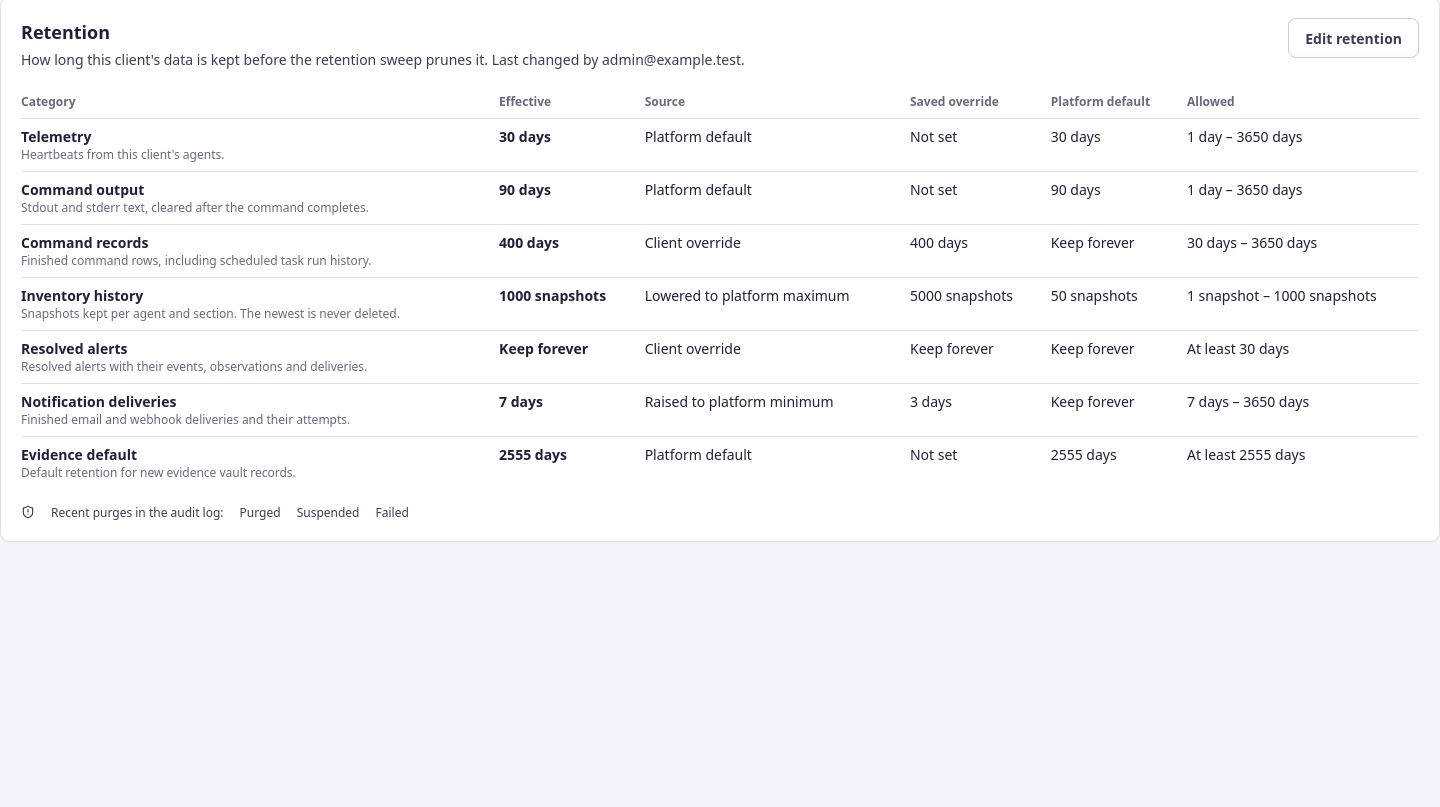
it: shortening asks for confirmation that pruned data is unrecoverable, then saves with the version
Click the button "Edit retention". click: (1354,38)
box: x1=1288 y1=18 x2=1419 y2=58
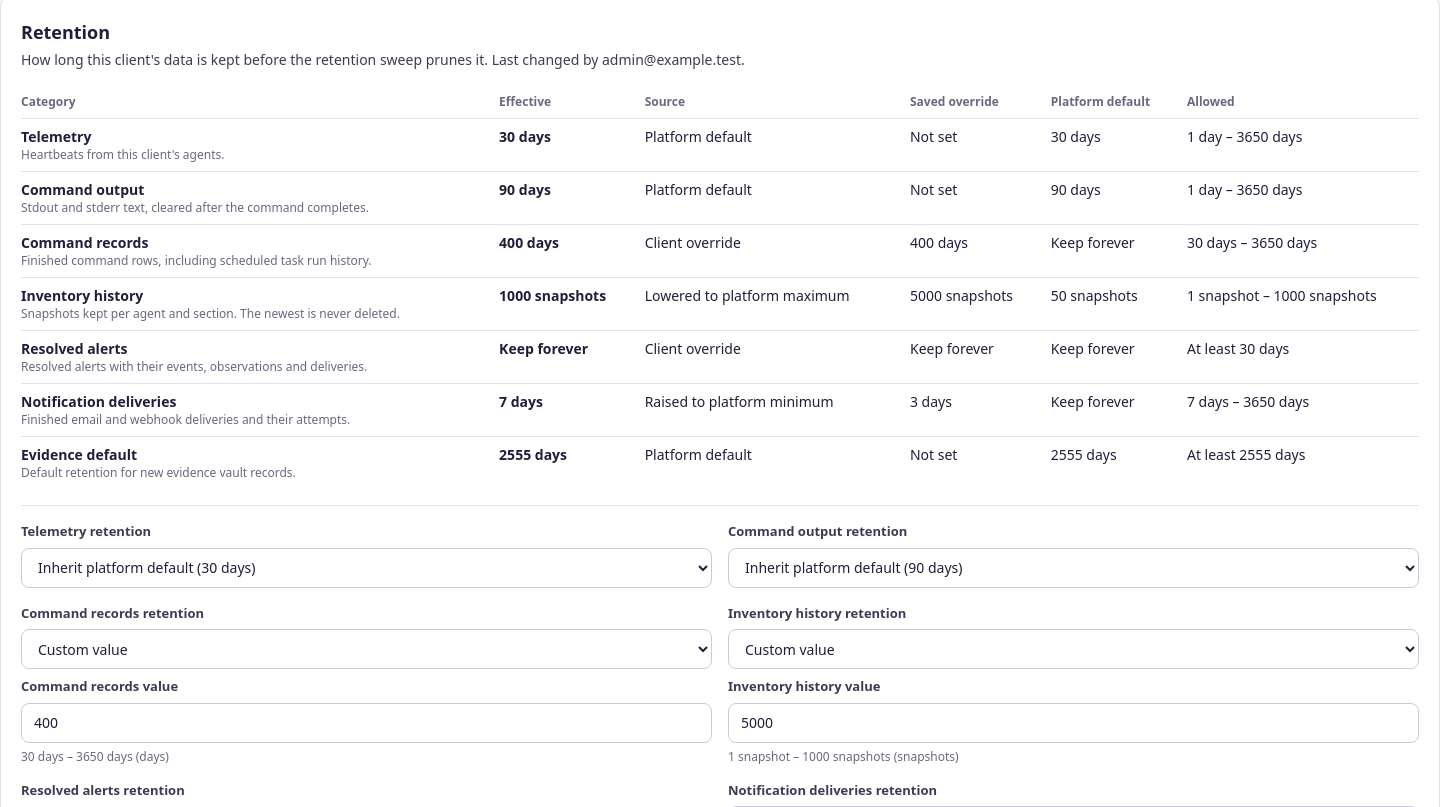
Select "Custom value" in the dropdown labelled "Inventory history retention". click: (1074,649)
box: x1=728 y1=629 x2=1419 y2=669
Replace the text in the field labelled "Inventory history value" with "1000". click: (1074,722)
box: x1=728 y1=702 x2=1419 y2=742
(page scrolled)
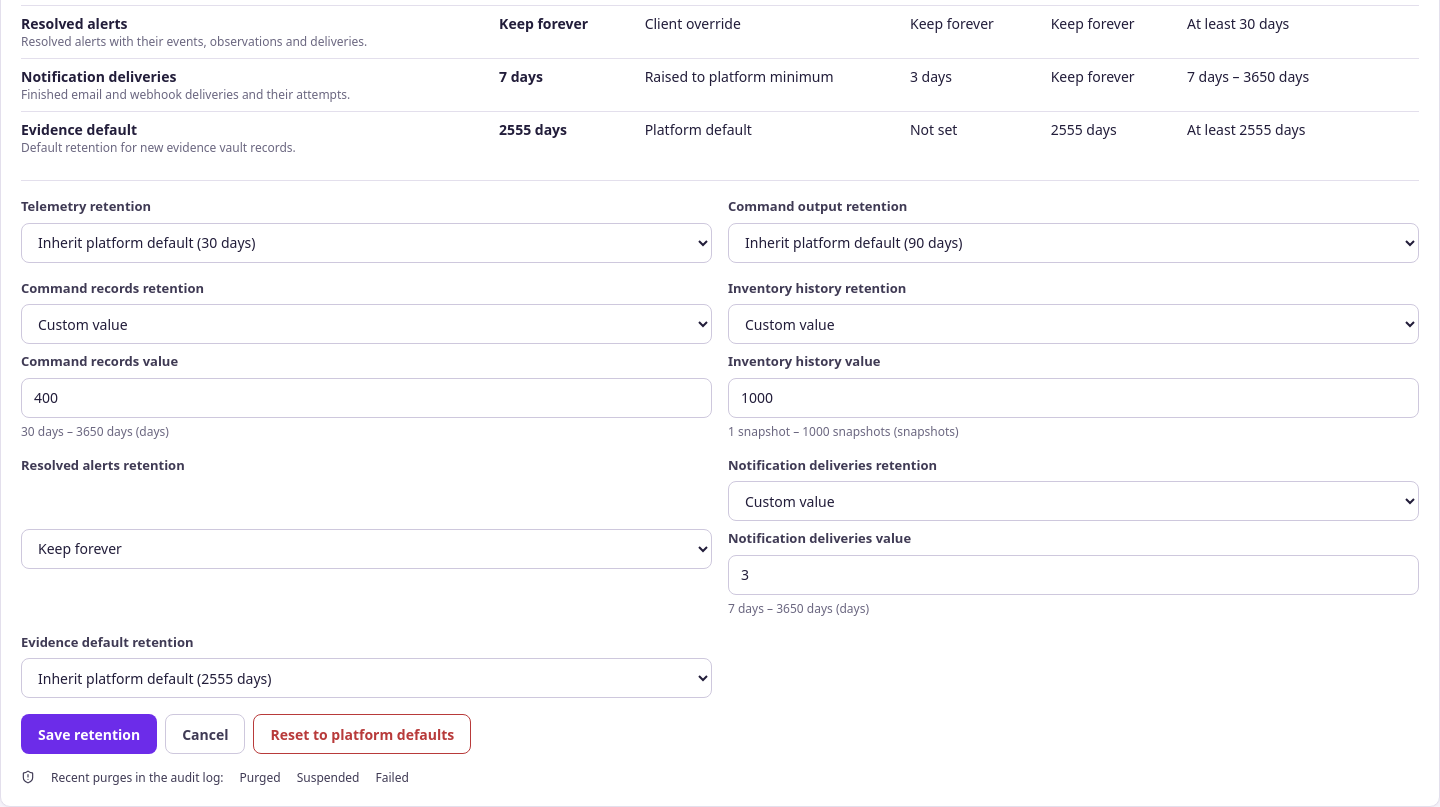
Select "Inherit platform default (Keep forever)" in the dropdown labelled "Notification deliveries retention". click: (1074,501)
box: x1=728 y1=481 x2=1419 y2=521
(page scrolled)
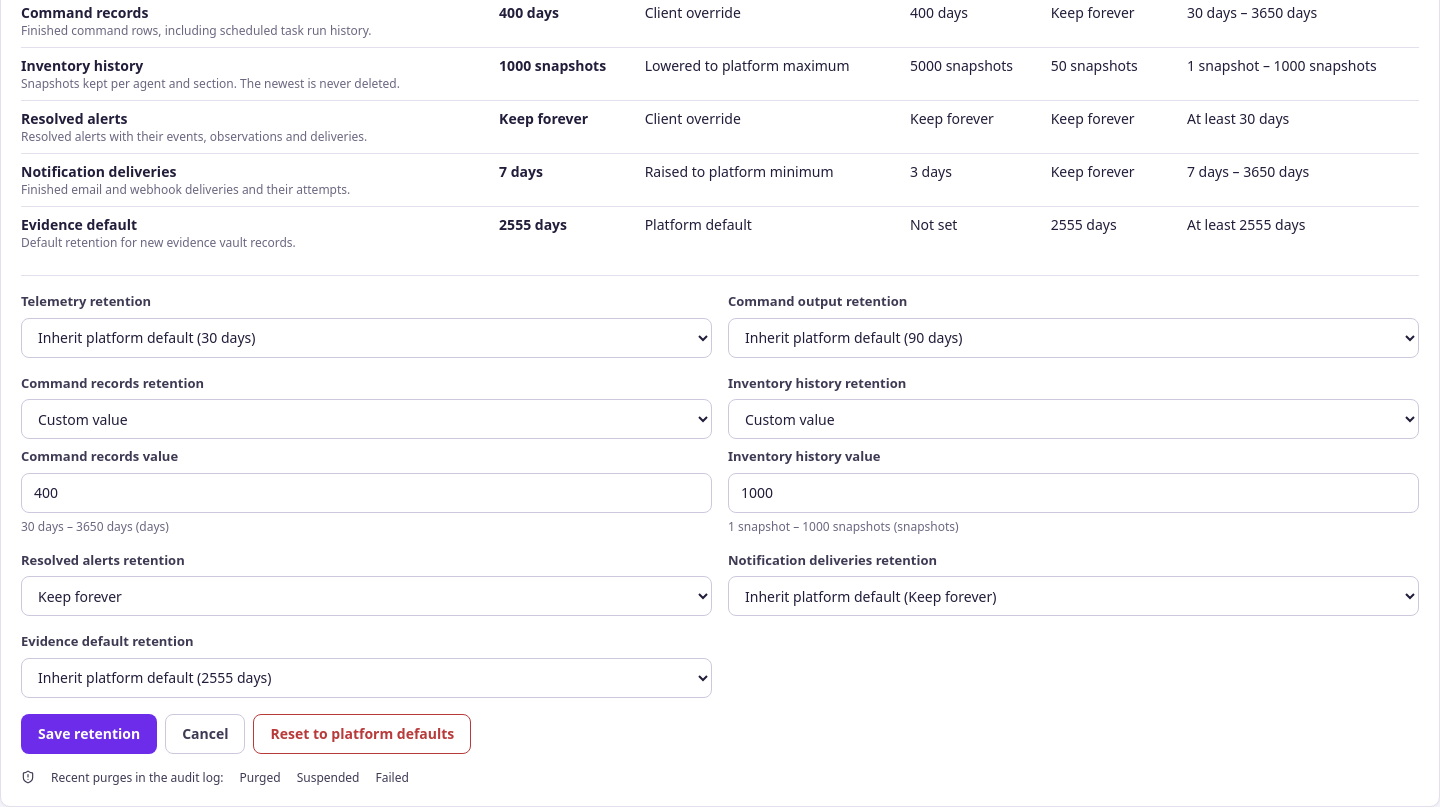
Select "Custom value" in the dropdown labelled "Telemetry retention". click: (366,338)
box: x1=21 y1=318 x2=712 y2=358
(page scrolled)
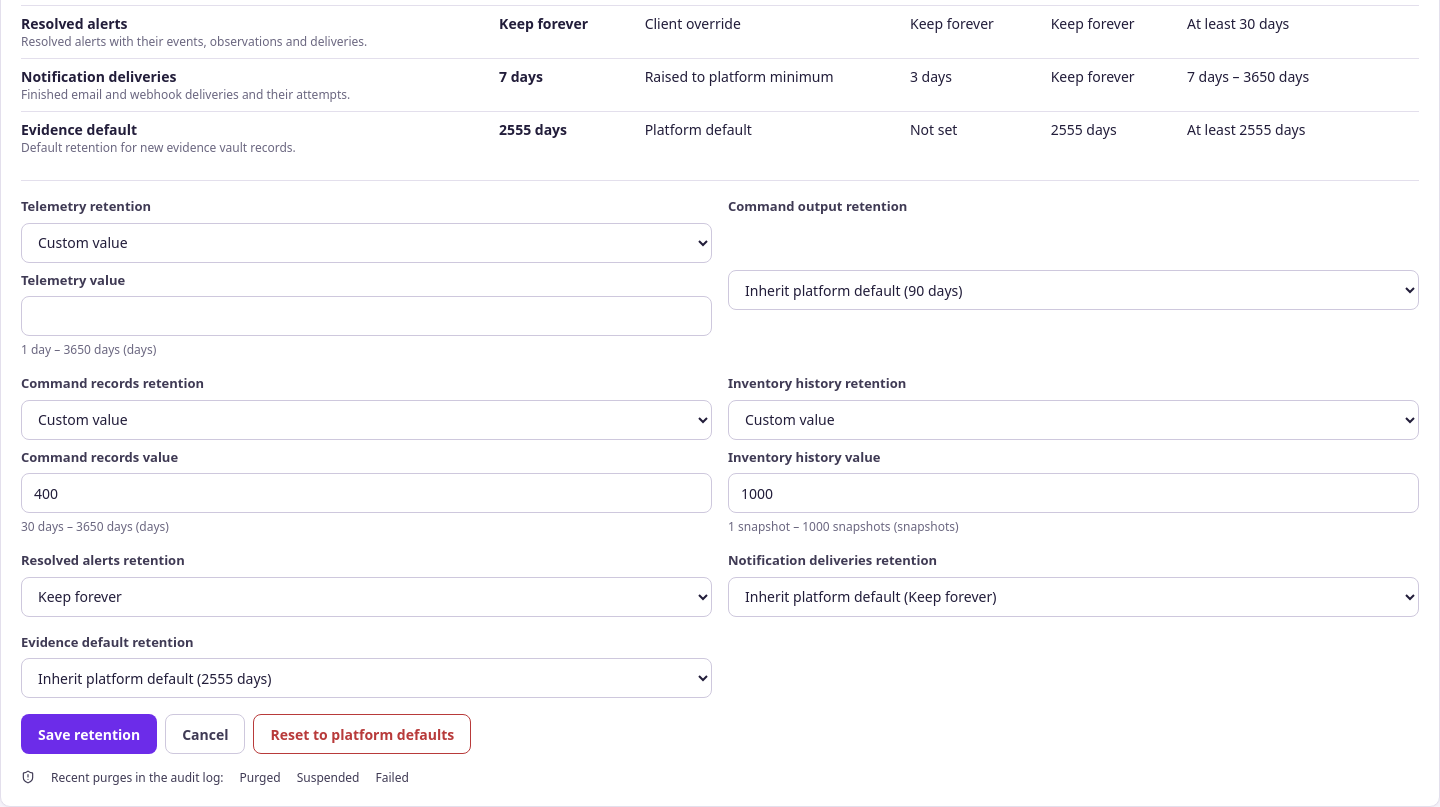
Type "7" into the field labelled "Telemetry value". click: (366,316)
box: x1=21 y1=296 x2=712 y2=336
Click the button "Save retention". click: (89,734)
box: x1=21 y1=714 x2=157 y2=754
(page scrolled)
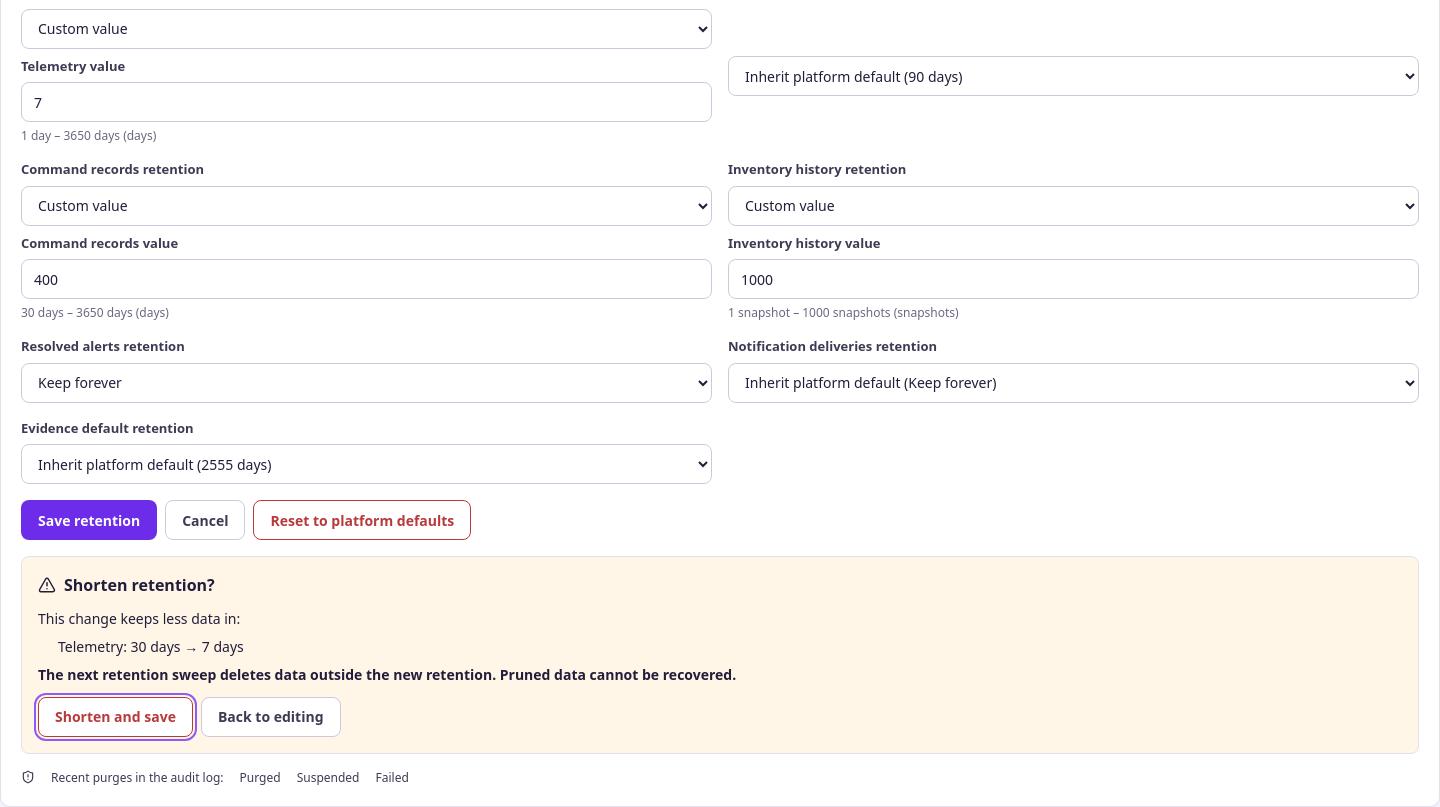
Check: the heading shows "Shorten retention", box x1=64 y1=574 x2=215 y2=596
Check: the text "cannot be recovered" is shown, box x1=38 y1=665 x2=736 y2=684
Check: the list item "Telemetry: 30 days → 7 days" is shown, box x1=58 y1=637 x2=244 y2=656
Click the button "Shorten and save". click: (115,717)
box: x1=38 y1=697 x2=193 y2=737
(page scrolled)
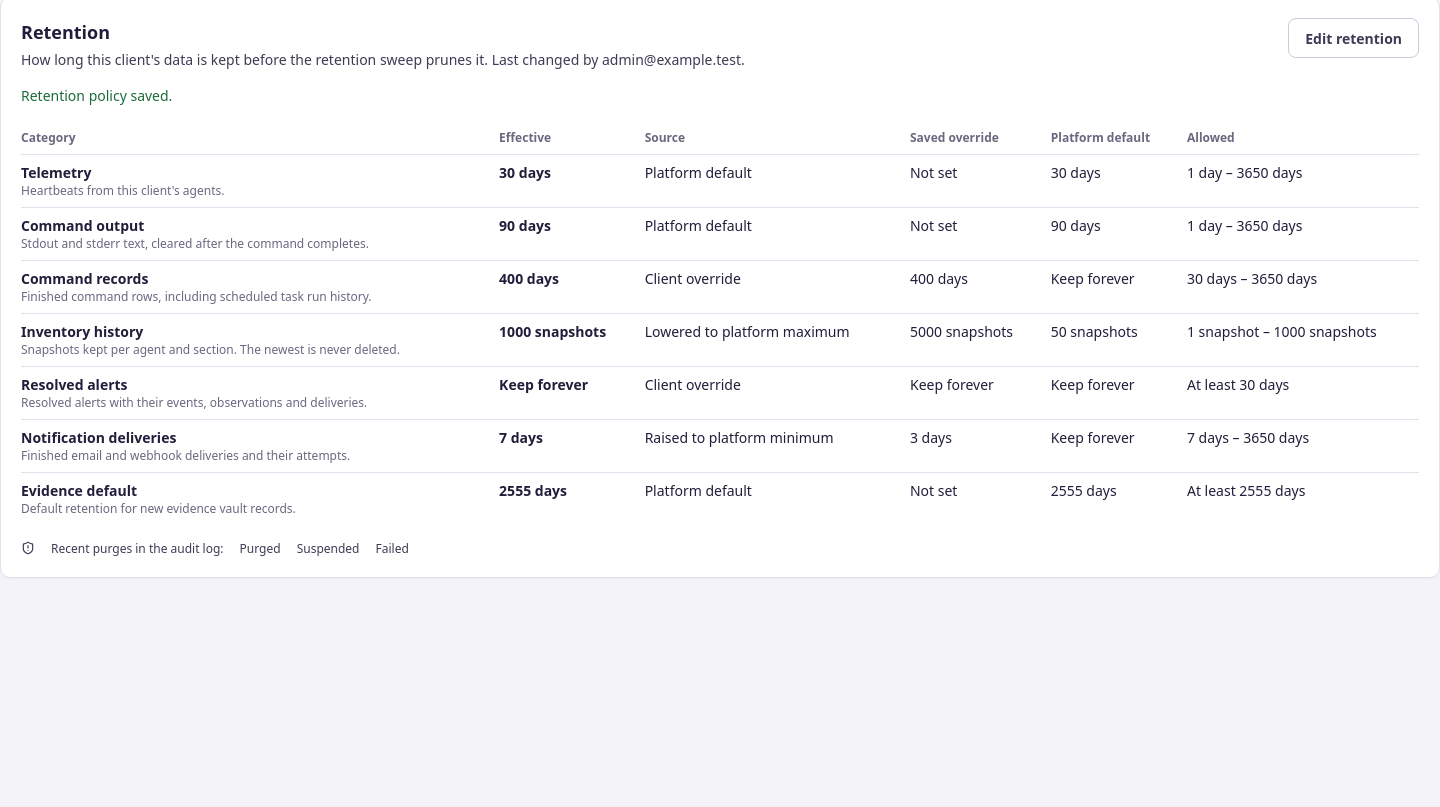
Check: the text "Retention policy saved." is shown, box x1=21 y1=86 x2=172 y2=105
